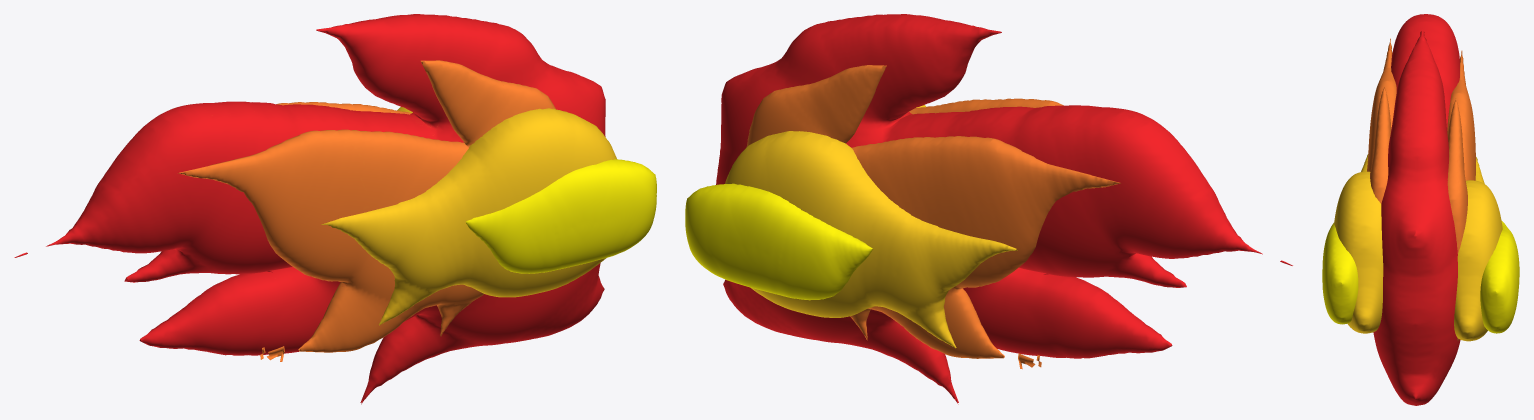
The model's file is OldSciFiRocket.fbx.
3 views of the same model, side by side, from view 1: azimuth 30°, elevation 25°; view 2: azimuth 150°, elevation 25°; view 3: azimuth 270°, elevation 25° (orthographic). The views are drawn at different scales.
Visible parts, largest first — view 1: root (×5); view 2: root (×5); view 3: root (×7).
Part boxes in pixels (left/top/right/bottom): root (×5): left=14, top=14, right=656, bottom=404; root (×5): left=685, top=14, right=1292, bottom=404; root (×7): left=1322, top=14, right=1519, bottom=405.
Size of the model in its own units: 0.4528 by 0.2851 by 0.165.
4 materials, 4 textured.
